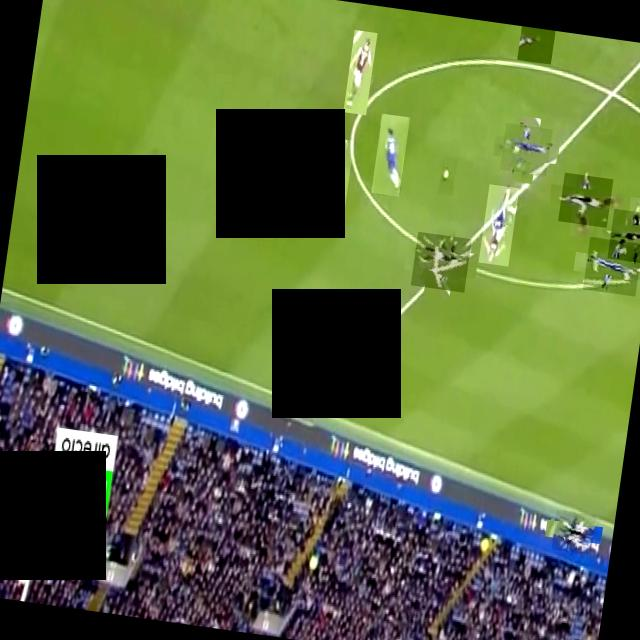ball: (437, 155, 457, 195)
referee: (550, 509, 596, 554), (606, 207, 640, 263)
soccer-player: (410, 230, 470, 291), (582, 235, 640, 295), (370, 112, 410, 196), (314, 136, 354, 220), (478, 184, 518, 266), (342, 29, 377, 114), (558, 172, 612, 226), (499, 122, 552, 175), (516, 26, 554, 64)
